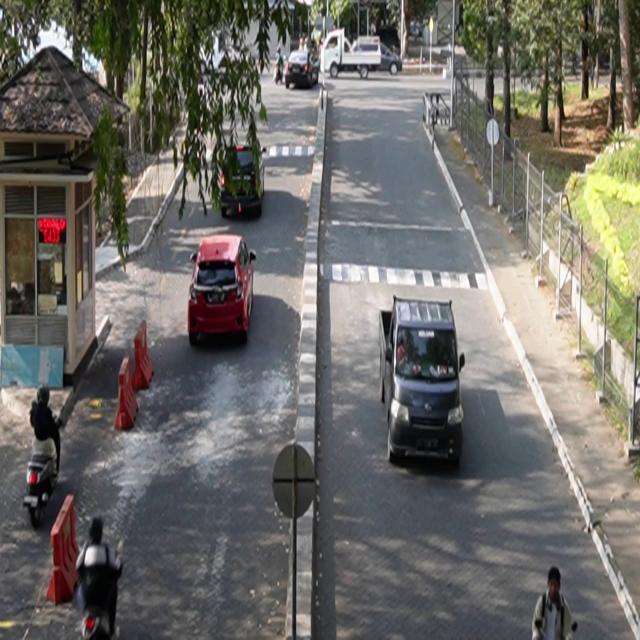car: (379, 295, 466, 467), (189, 234, 258, 346), (219, 143, 266, 220), (286, 50, 320, 90)
